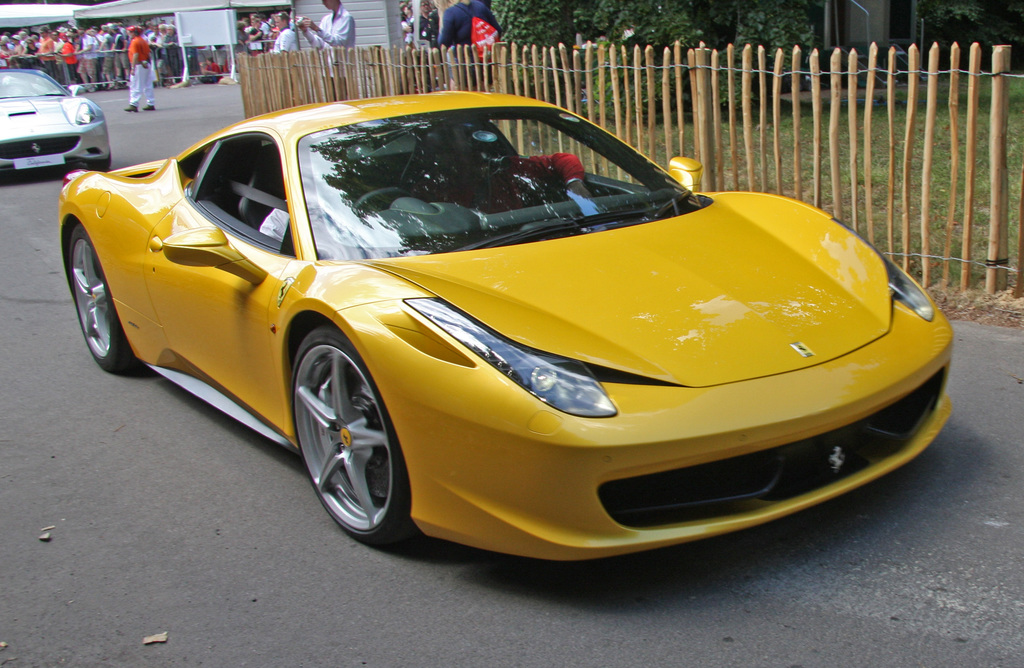person: (297, 0, 361, 102)
